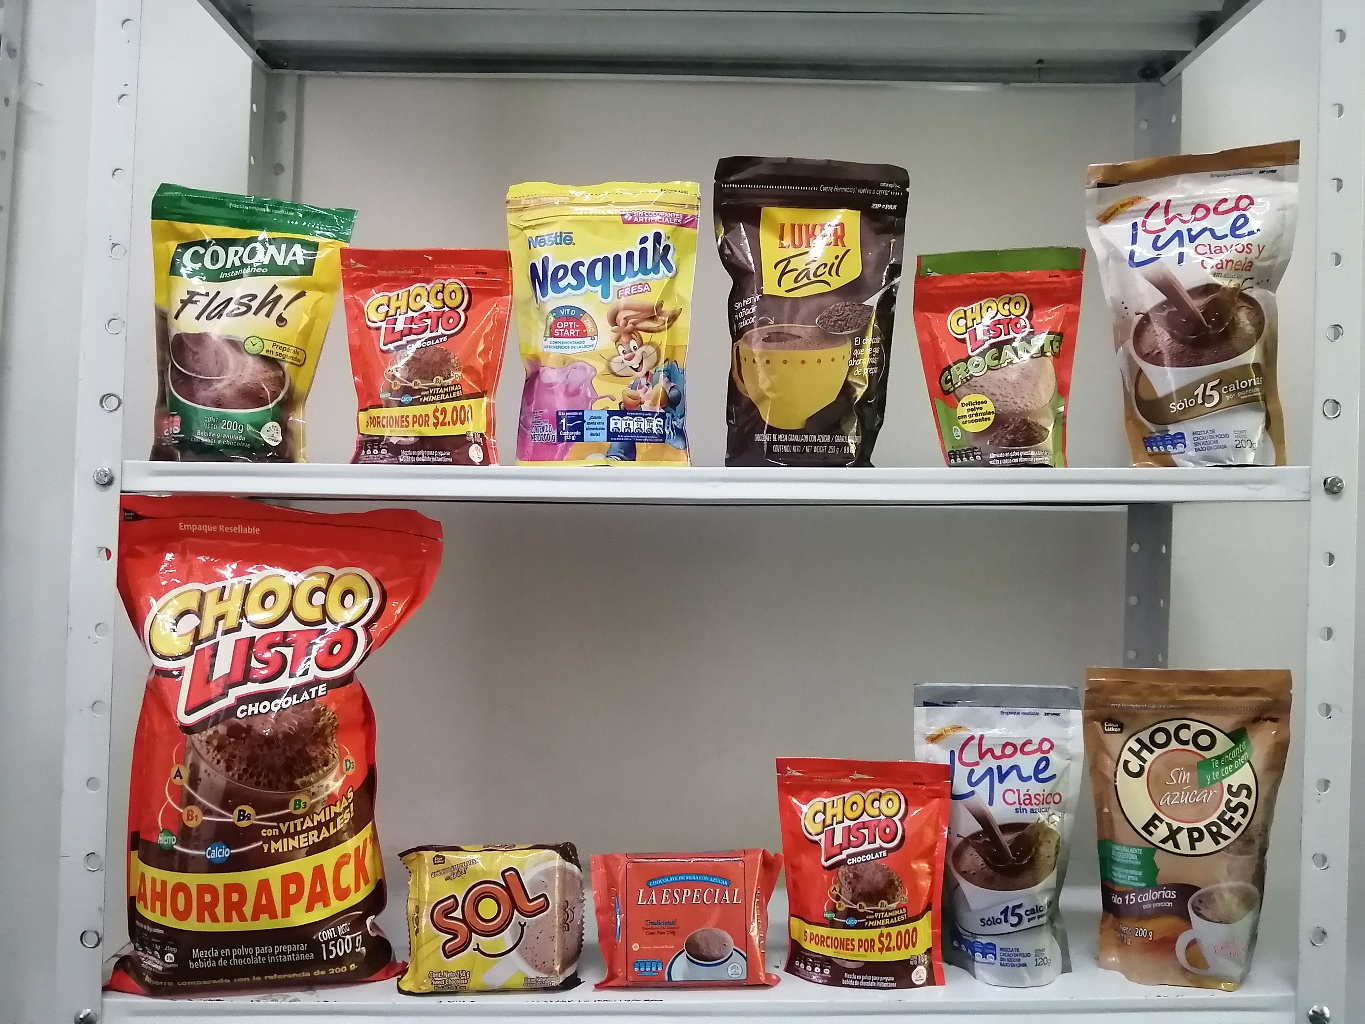COL0170102DYP10000: (894, 232, 1100, 479)
COL0170103DYP1,500: (81, 471, 469, 991)
COL0170305DYP20000: (488, 159, 719, 471)
